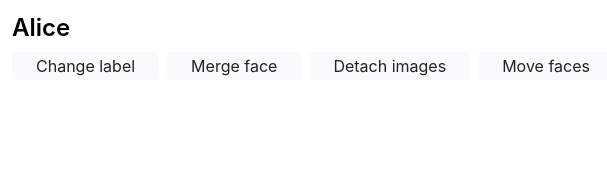
Scenario: FaceGroupTitle › label editing › pressing Escape exits edit mode and restores the original label
This screenshot has width=607, height=172.
Step 1. Click the button "Change label" → (86,66), box [12,52,159,80]
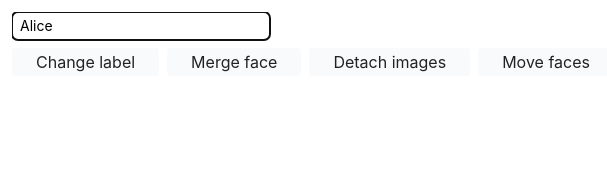
Step 2. Replace the text in the field with "Edited Name" → (141,26), box [12,12,270,40]
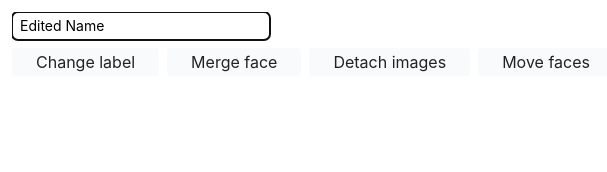
Step 3. Press Escape in the field, box [12,12,270,40]
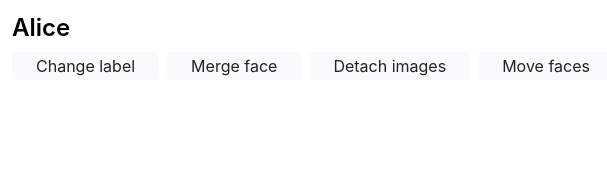
Check: the field is gone
Check: the heading reads "Alice", box [12,13,70,42]
